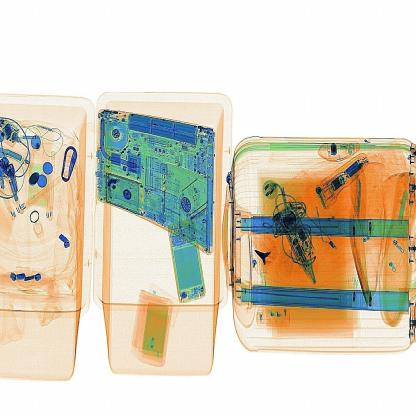gun: (245, 243, 286, 273)
